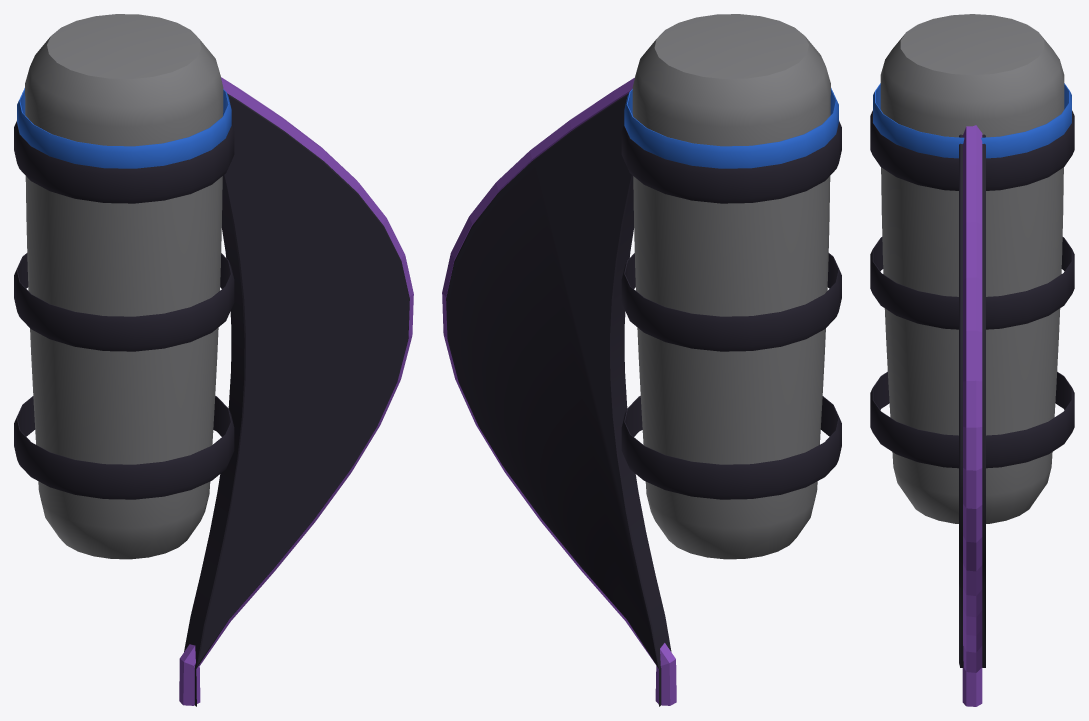
The model's file is Kit_Limb_LeagueScythe_S.glb.
3 renders of one model, left to right at view 1: azimuth 30°, elevation 25°; view 2: azimuth 150°, elevation 25°; view 3: azimuth 270°, elevation 25°, orthographic. The views are drawn at different scales.
Parts seen in each view (by area): view 1: Kit_Limb_LeagueScythe_S; view 2: Kit_Limb_LeagueScythe_S; view 3: Kit_Limb_LeagueScythe_S.
Boxes of the visible parts, x1,y1,x2,y2 form: Kit_Limb_LeagueScythe_S: (14, 14, 413, 706); Kit_Limb_LeagueScythe_S: (442, 14, 841, 706); Kit_Limb_LeagueScythe_S: (870, 14, 1074, 706).
Bounding box in the file's own units: 0.1862 × 0.3138 × 0.0919.
